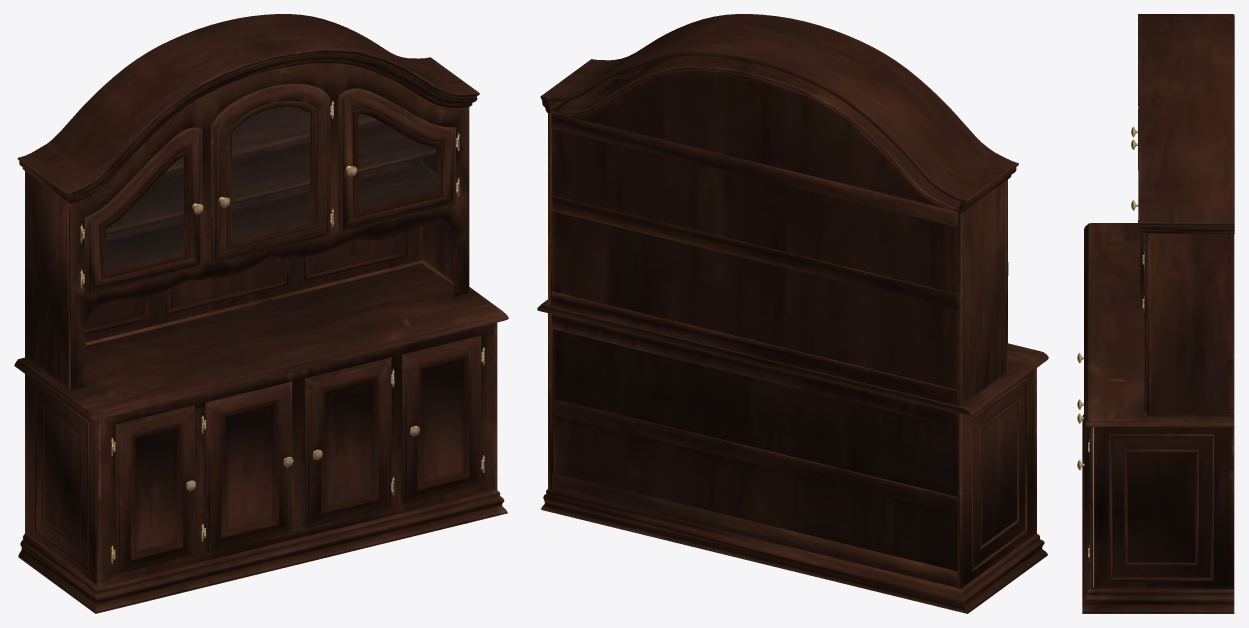
The model's file is vintage_cabinet_01.glb.
3 views of the same model, side by side, from view 1: azimuth 30°, elevation 25°; view 2: azimuth 150°, elevation 25°; view 3: azimuth 270°, elevation 25° (orthographic). The views are drawn at different scales.
Visible parts, largest first — view 1: vintage_cabinet_01_body, vintage_cabinet_01_door_01; view 2: vintage_cabinet_01_body; view 3: vintage_cabinet_01_body.
Boxes of the visible parts, bbox=[...] form: vintage_cabinet_01_body: bbox=[14, 14, 508, 613]; vintage_cabinet_01_door_01: bbox=[106, 107, 436, 271]; vintage_cabinet_01_body: bbox=[537, 14, 1048, 613]; vintage_cabinet_01_body: bbox=[1077, 14, 1234, 613].
Size of the model in its own units: 2.02 by 2.24 by 0.6699.
3 materials, 2 textured.
